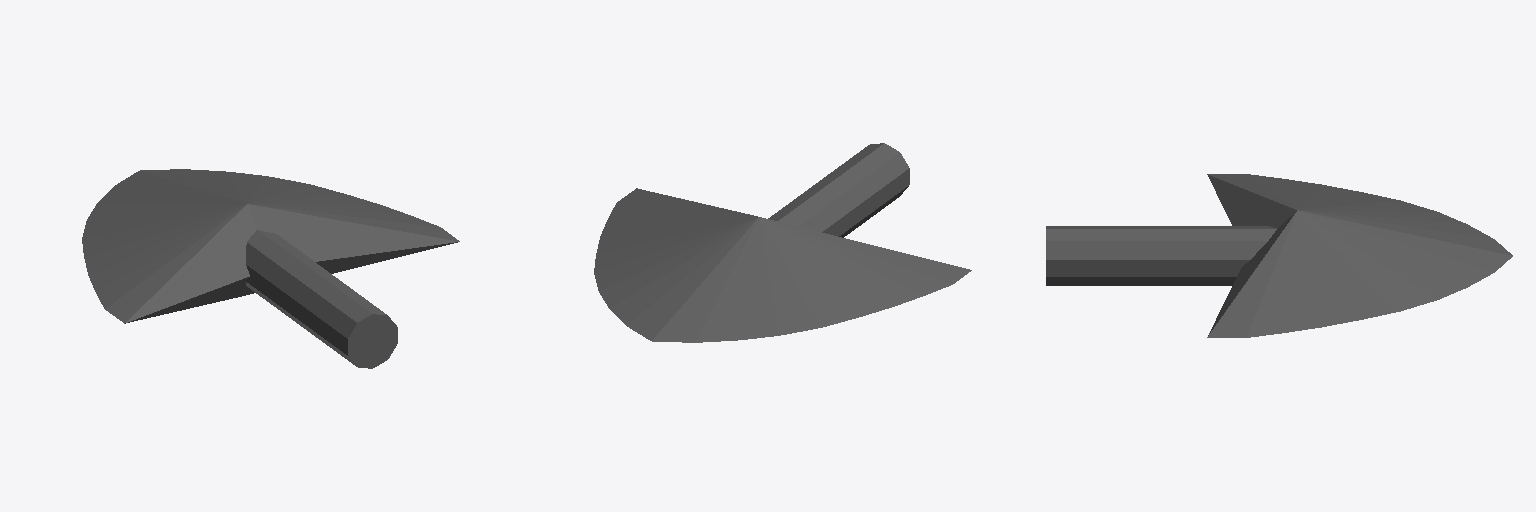
The model's file is mystical_blade_2024.obj.
The picture shows the model from 3 angles: view 1: azimuth 30°, elevation 25°; view 2: azimuth 150°, elevation 25°; view 3: azimuth 270°, elevation 25°; orthographic projection.
Visible parts, largest first — view 1: 0; view 2: 0; view 3: 0.
Boxes of the visible parts, <box> form: 0: <box>82,169,459,368</box>; 0: <box>594,143,971,342</box>; 0: <box>1046,174,1512,337</box>.
Size of the model in its own units: 0.2568 by 0.0665 by 0.3087.